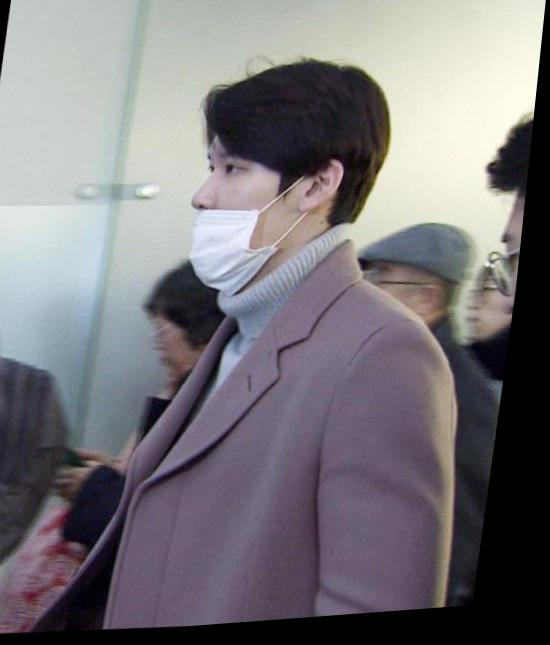NONE: (154, 315, 215, 379), (471, 280, 525, 350)
WRONG: (182, 140, 348, 302)
